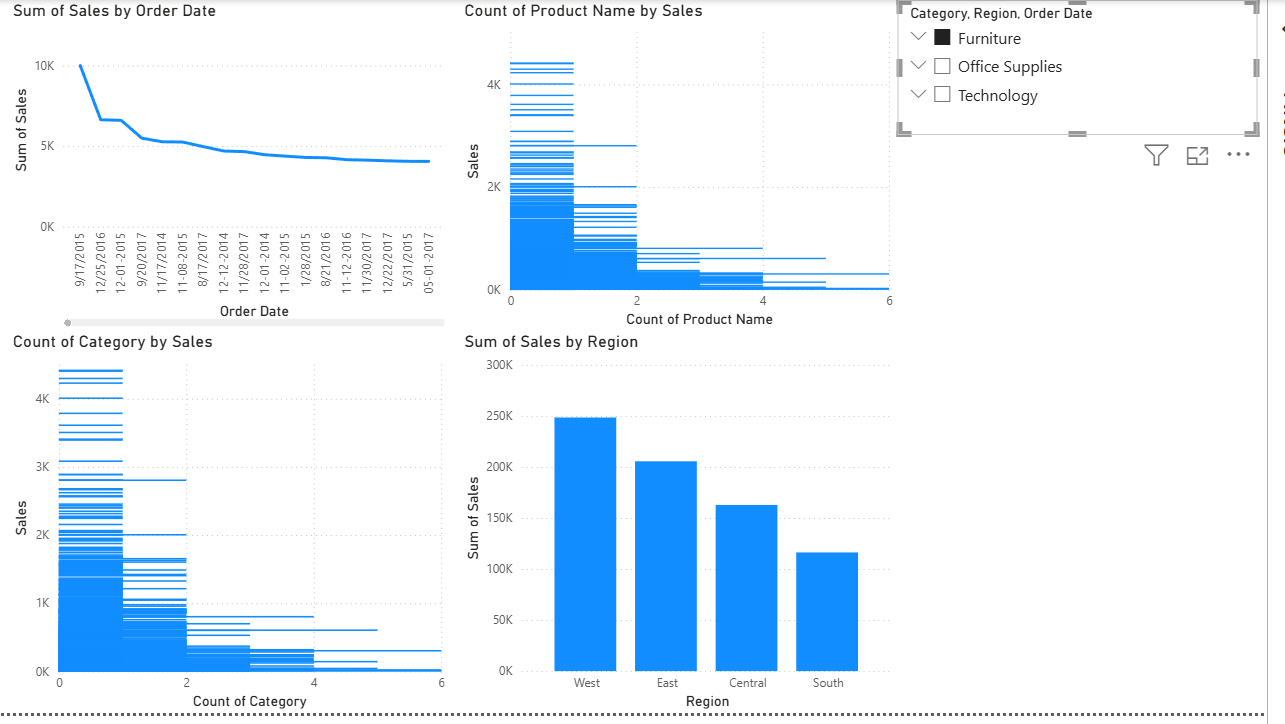

Layout of this report page (visuals, bound fields, positions):
{"tool":"powerbi","page":{"name":"Page 1","canvas":[1280,720],"ordinal":0},"visuals":[{"type":"lineChart","fields":{"Category":["project superstore.Order Date"],"Y":["Sum(project superstore.Sales)"]},"box":[9.4,0,446,334.5],"z":0},{"type":"clusteredBarChart","fields":{"Category":["project superstore.Sales"],"Y":["CountNonNull(project superstore.Category)"]},"box":[9.4,334.5,446,385.5],"z":1},{"type":"columnChart","fields":{"Category":["project superstore.Sales"],"Y":["CountNonNull(project superstore.Product Name)"]},"box":[464.9,0,521.6,334.5],"z":2},{"type":"columnChart","fields":{"Y":["Sum(project superstore.Sales)"],"Category":["project superstore.Region"]},"box":[464.9,334.5,442.2,385.5],"z":3},{"type":"slicer","fields":{"Values":["project superstore.Category","project superstore.Region","project superstore.Order Date"]},"box":[907.1,0,362.8,136.1],"z":4}]}

Visuals, with their boxes in screenshot pixels (x1, y1, x2, y2), scaled from the page's 1280x720 canvas onto the 1285x724 screenshot:
lineChart - project superstore.Order Date x Sum(project superstore.Sales): locate(9, 0, 457, 336)
clusteredBarChart - project superstore.Sales x CountNonNull(project superstore.Category): locate(9, 336, 457, 723)
columnChart - project superstore.Sales x CountNonNull(project superstore.Product Name): locate(467, 0, 990, 336)
columnChart - Sum(project superstore.Sales) x project superstore.Region: locate(467, 336, 911, 723)
slicer - project superstore.Category x project superstore.Region: locate(911, 0, 1275, 137)
